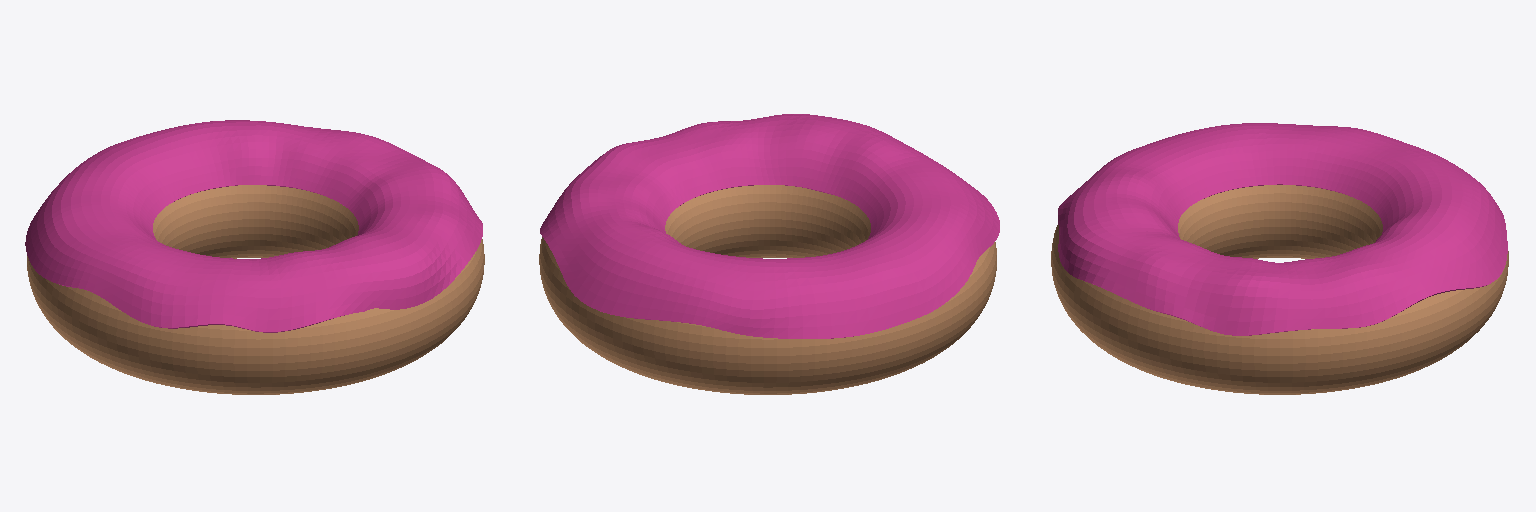
Rendered from donut_small.obj.
3 views of the same model, side by side, from view 1: azimuth 30°, elevation 25°; view 2: azimuth 150°, elevation 25°; view 3: azimuth 270°, elevation 25° (orthographic).
Parts seen in each view (by area): view 1: donut.001_Torus.003, donut_Torus.001; view 2: donut.001_Torus.003, donut_Torus.001; view 3: donut.001_Torus.003, donut_Torus.001.
Boxes of the visible parts, box(x1,y1,x2,y2) form: donut.001_Torus.003: box(25, 120, 482, 332); donut_Torus.001: box(27, 185, 484, 394); donut.001_Torus.003: box(540, 114, 999, 338); donut_Torus.001: box(539, 185, 996, 394); donut.001_Torus.003: box(1058, 123, 1507, 335); donut_Torus.001: box(1051, 185, 1508, 394).
Bounding box in the file's own units: 1.79 × 0.5554 × 1.79.